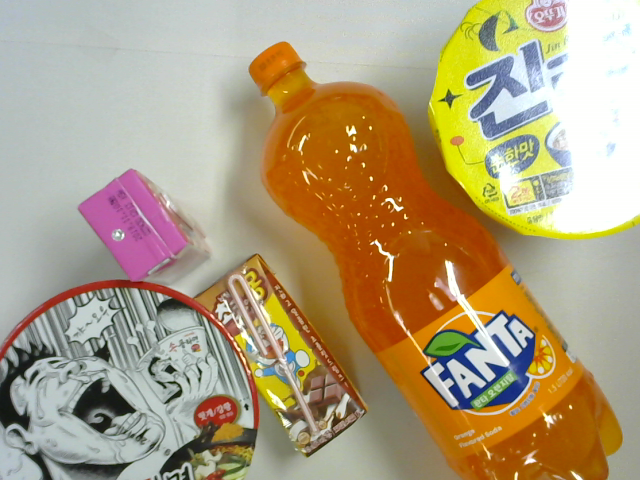Choco_E_Mong: (189, 255, 368, 460)
Hejangpul: (9, 284, 276, 480)
Hwanta_Orange_1.5L: (244, 25, 619, 480)
Jinlamyeon_Mild_Taste_Large_Cup: (424, 1, 633, 244)
Strawberry_E_Mong: (70, 172, 197, 277)
